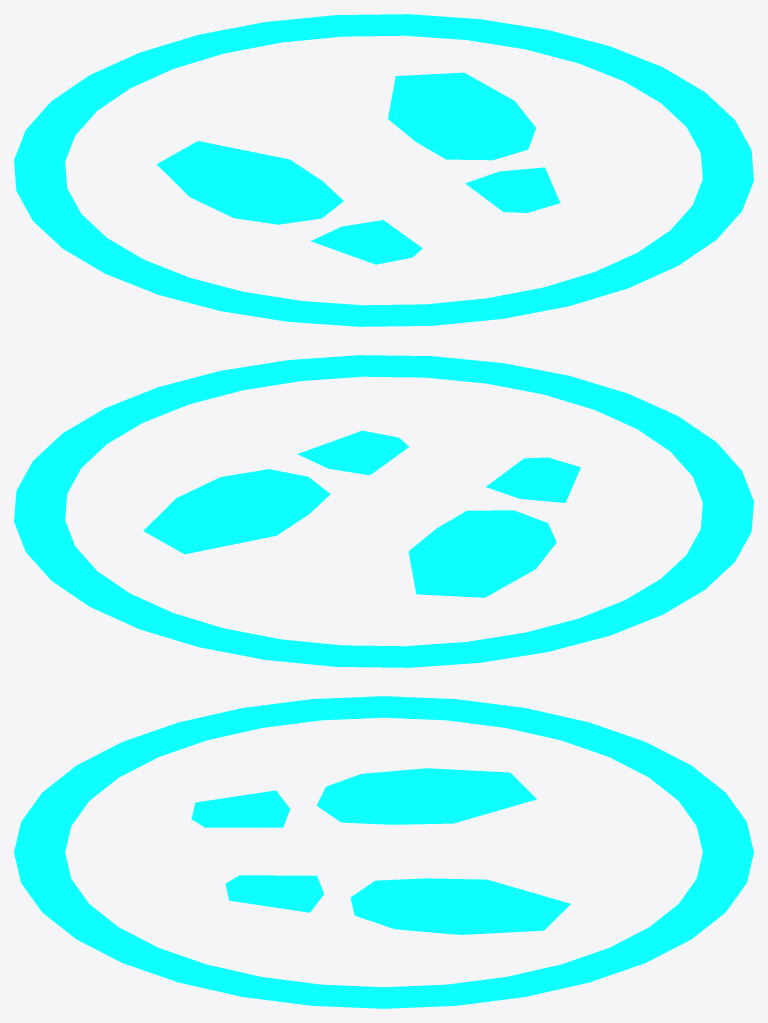
Rendered from footprint-standpoint.fbx.
3 renders of one model, top to bottom at view 1: azimuth 30°, elevation 25°; view 2: azimuth 150°, elevation 25°; view 3: azimuth 270°, elevation 25°, orthographic.
Parts seen in each view (by area): view 1: Plane; view 2: Plane; view 3: Plane.
Part boxes in pixels (x1,y1,x2,y2): Plane: (14, 14, 753, 326); Plane: (14, 355, 753, 667); Plane: (14, 696, 753, 1008).
Bounding box in the file's own units: 98.52 × 1.61e-05 × 98.52.
